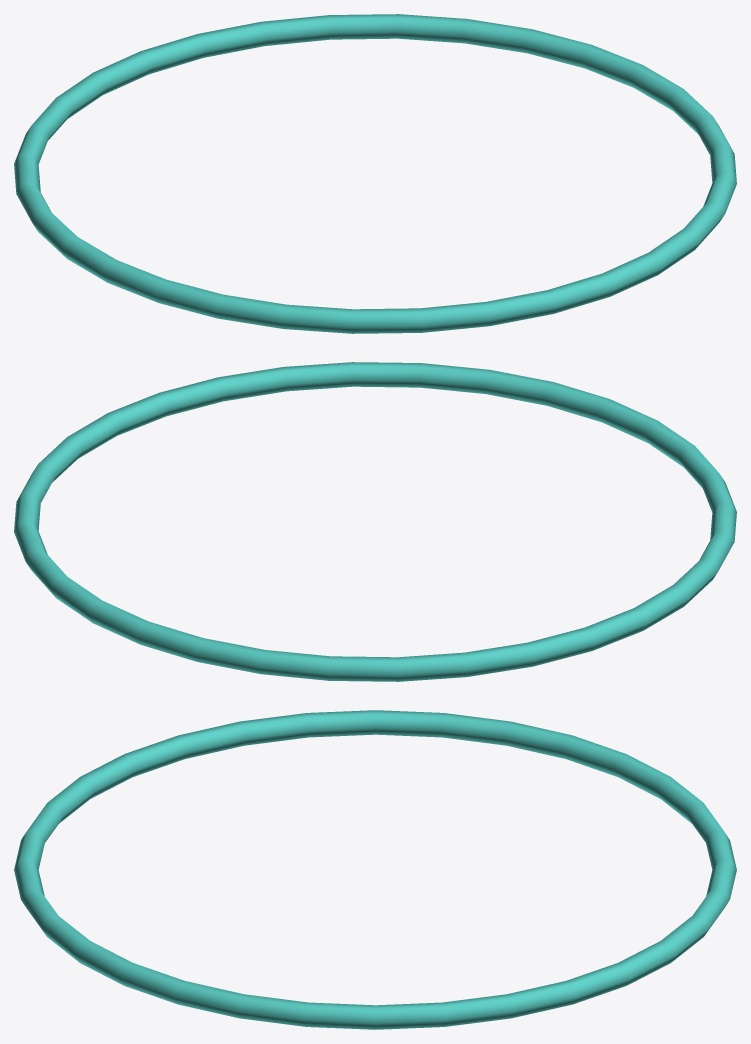
Rendered from fx-Ring_Source.2c59ea4f91.glb.
3 renders of one model, top to bottom at view 1: azimuth 30°, elevation 25°; view 2: azimuth 150°, elevation 25°; view 3: azimuth 270°, elevation 25°, orthographic.
Visible parts, largest first — view 1: Ring_Source; view 2: Ring_Source; view 3: Ring_Source.
Boxes of the visible parts, <box> form: Ring_Source: <box>14,14,736,333</box>; Ring_Source: <box>14,362,736,681</box>; Ring_Source: <box>14,710,736,1029</box>.
Bounding box in the file's own units: 0.704 × 0.0208 × 0.704.
